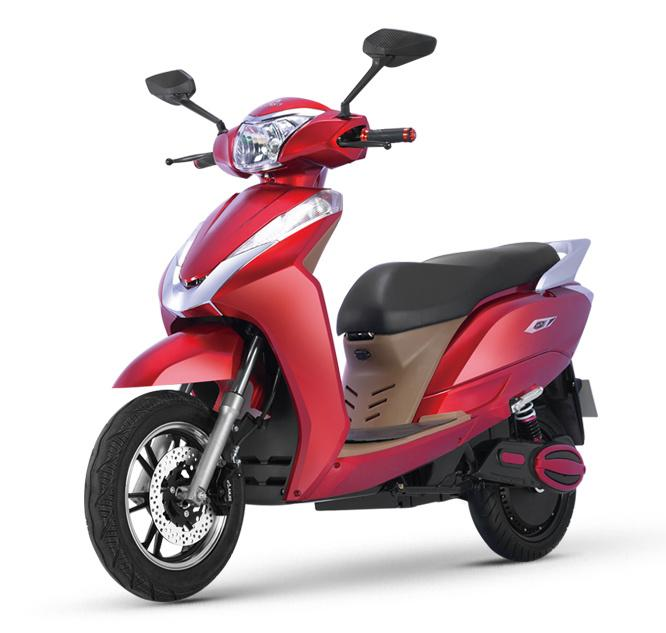motorbike: (82, 29, 598, 603)
